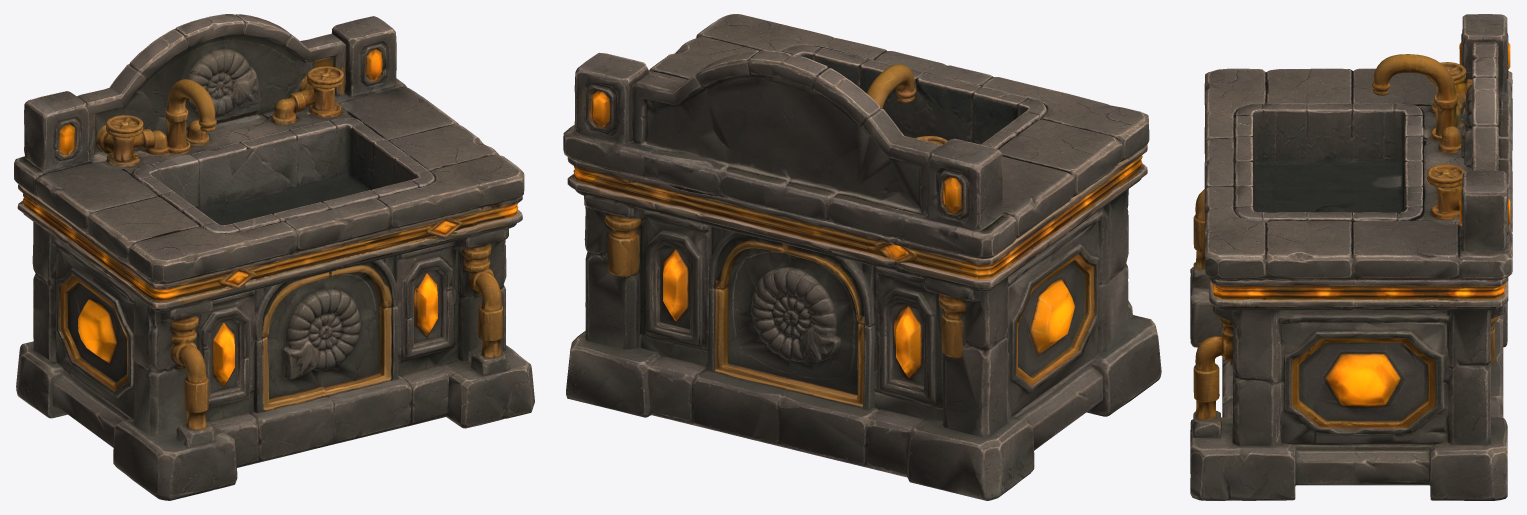
The model's file is dish-return.glb.
3 views of the same model, side by side, from view 1: azimuth 30°, elevation 25°; view 2: azimuth 150°, elevation 25°; view 3: azimuth 270°, elevation 25° (orthographic). The views are drawn at different scales.
Visible parts, largest first — view 1: mesh_node; view 2: mesh_node; view 3: mesh_node.
Boxes of the visible parts, x1,y1,x2,y2 form: mesh_node: (14, 14, 534, 500); mesh_node: (563, 14, 1161, 500); mesh_node: (1190, 14, 1512, 500).
Size of the model in its own units: 1.89 by 1.59 by 1.34.
1 material, 1 textured.
